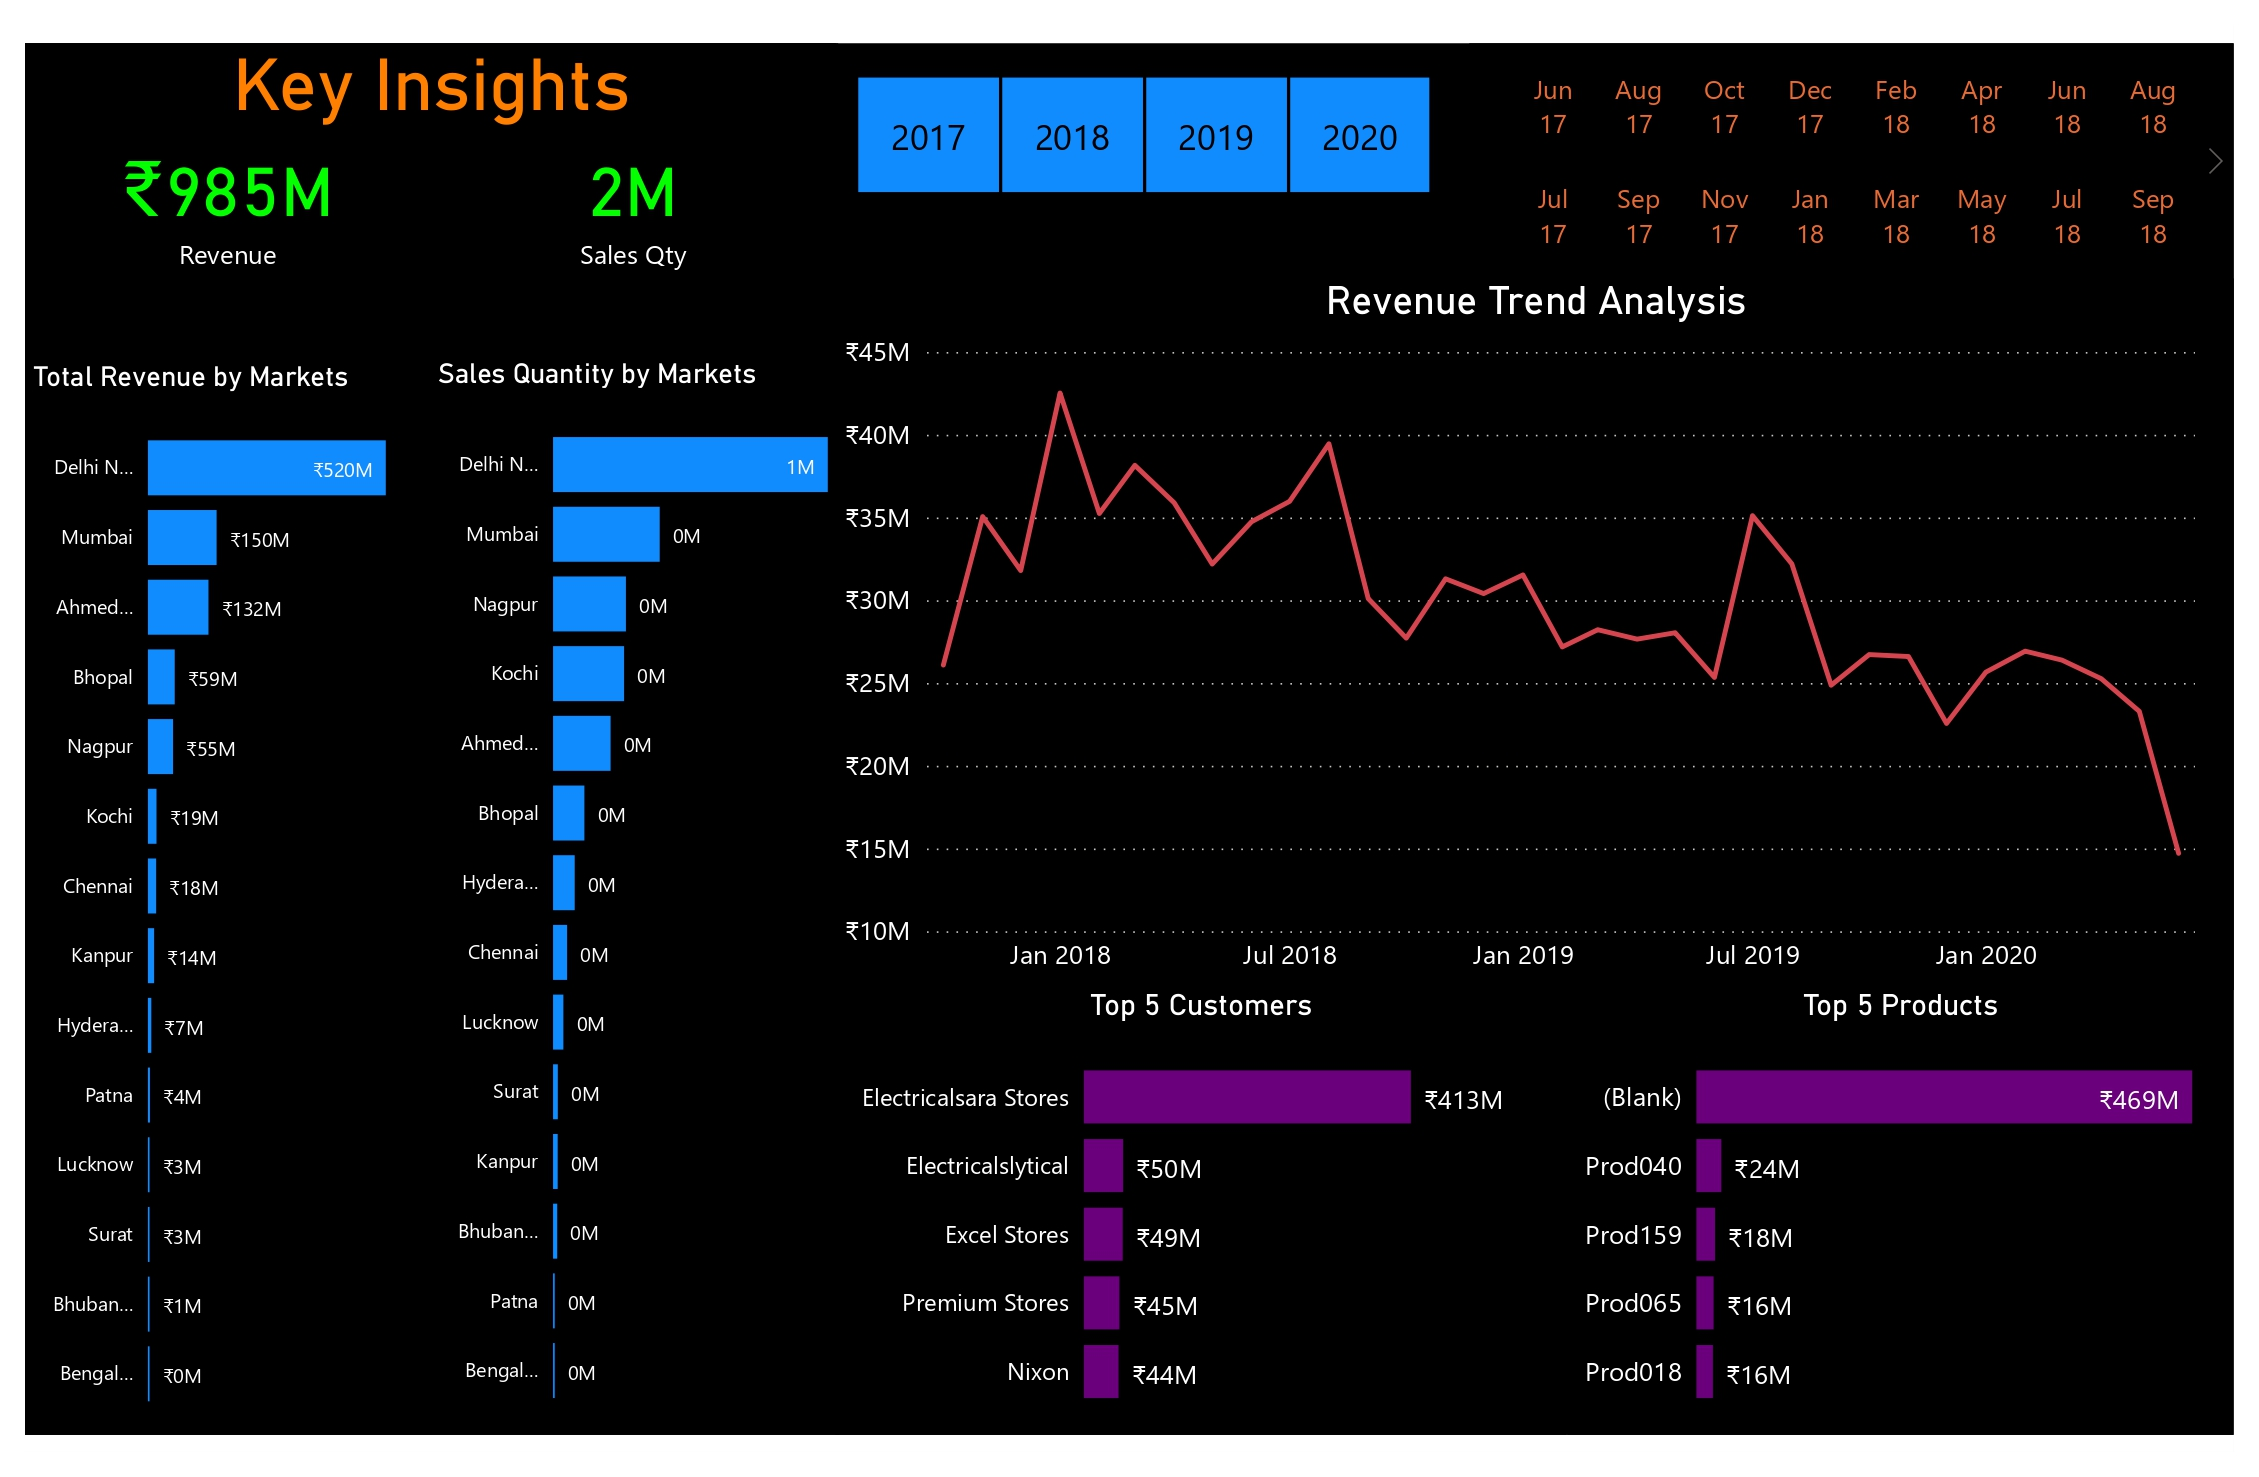

The dashboard page shown, as its layout file describes it:
{"tool":"powerbi","page":{"name":"Key Insights","canvas":[1350,850],"ordinal":0},"visuals":[{"type":"card","fields":{"Values":["BaseMeasures (2).Revenue"]},"box":[0,0,247.6,193.7],"z":0},{"type":"card","fields":{"Values":["BaseMeasures (2).Sales Qty"]},"box":[247.6,0,247.6,193.7],"z":1000},{"type":"barChart","title":"Total Revenue by Markets","fields":{"Y":["BaseMeasures (2).Revenue"],"Category":["sales markets.markets_name"]},"box":[0,193.7,247.6,659],"z":2000},{"type":"barChart","title":"Sales Quantity by Markets","fields":{"Y":["BaseMeasures (2).Sales Qty"],"Category":["sales markets.markets_name"]},"box":[247.6,191.7,249.6,659],"z":3000},{"type":"slicer","fields":{"Values":["sales date.year"]},"box":[483.3,14,399.4,83.9],"z":4000},{"type":"slicer","fields":{"Values":["sales date.cy_date"]},"box":[882.7,0,467.3,143.8],"z":5000},{"type":"barChart","title":"Top 5 Customers","fields":{"Y":["BaseMeasures (2).Revenue"],"Category":["sales customers.custmer_name"]},"box":[495.3,577.1,447.3,273.6],"z":6000},{"type":"barChart","title":"Top 5 Products","fields":{"Y":["BaseMeasures (2).Revenue"],"Category":["sales products.product_code"]},"box":[942.6,577.1,407.4,273.6],"z":7000},{"type":"lineChart","title":"Revenue Trend Analysis","fields":{"Y":["BaseMeasures (2).Revenue"],"Category":["sales date.cy_date"]},"box":[495.3,143.8,856.7,435.4],"z":8000},{"type":"textbox","title":"Key Insights","box":[0,0,497.3,55.9],"z":8001}]}

Visuals, with their boxes on the page's 1350x850 design canvas (x1, y1, x2, y2). These are canvas units, not pixel positions in the 2259x1477 screenshot, which may show the page scaled, cropped or inside an application window:
card - BaseMeasures (2).Revenue: 0:0:248:194
card - BaseMeasures (2).Sales Qty: 248:0:495:194
"Total Revenue by Markets" barChart: 0:194:248:853
"Sales Quantity by Markets" barChart: 248:192:497:851
slicer - sales date.year: 483:14:883:98
slicer - sales date.cy_date: 883:0:1350:144
"Top 5 Customers" barChart: 495:577:943:851
"Top 5 Products" barChart: 943:577:1350:851
"Revenue Trend Analysis" lineChart: 495:144:1352:579
"Key Insights" textbox: 0:0:497:56
